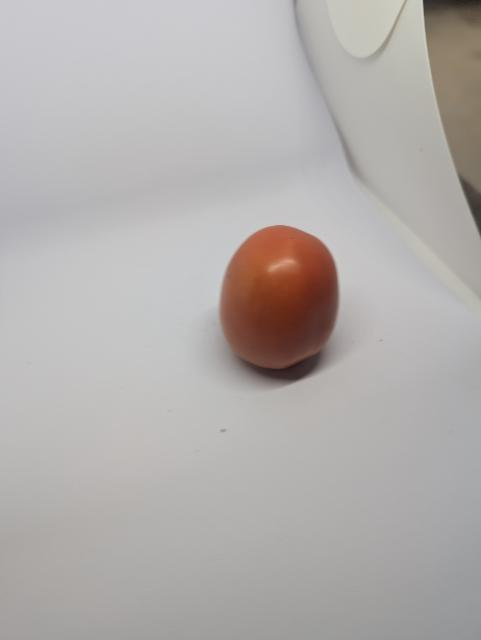red: (203, 218, 367, 376)
